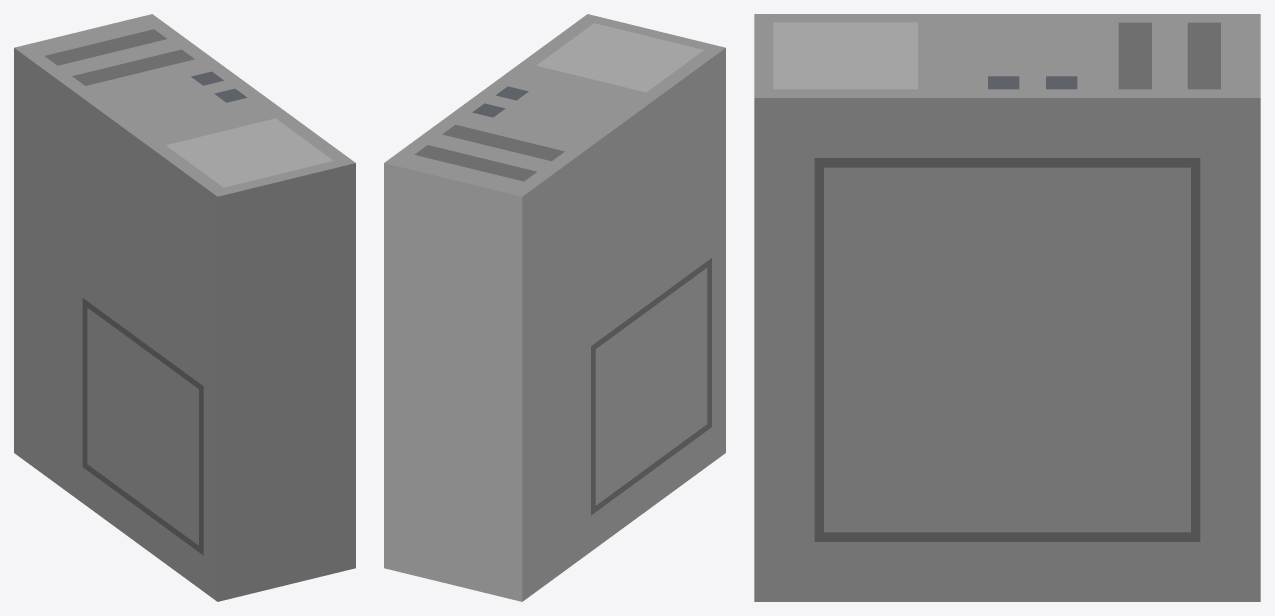
File: ComputerTower.glb
3 renders of one model, left to right at view 1: azimuth 30°, elevation 25°; view 2: azimuth 150°, elevation 25°; view 3: azimuth 270°, elevation 25°, orthographic. The views are drawn at different scales.
Parts seen in each view (by area): view 1: SO_ComputerTower; view 2: SO_ComputerTower; view 3: SO_ComputerTower.
Part boxes in pixels (x1,y1,x2,y2): SO_ComputerTower: [14, 14, 355, 601]; SO_ComputerTower: [384, 14, 725, 601]; SO_ComputerTower: [754, 14, 1260, 601].
Bounding box in the file's own units: 0.351 × 0.9824 × 0.8948.
Materials: 1 (1 with a texture image).
